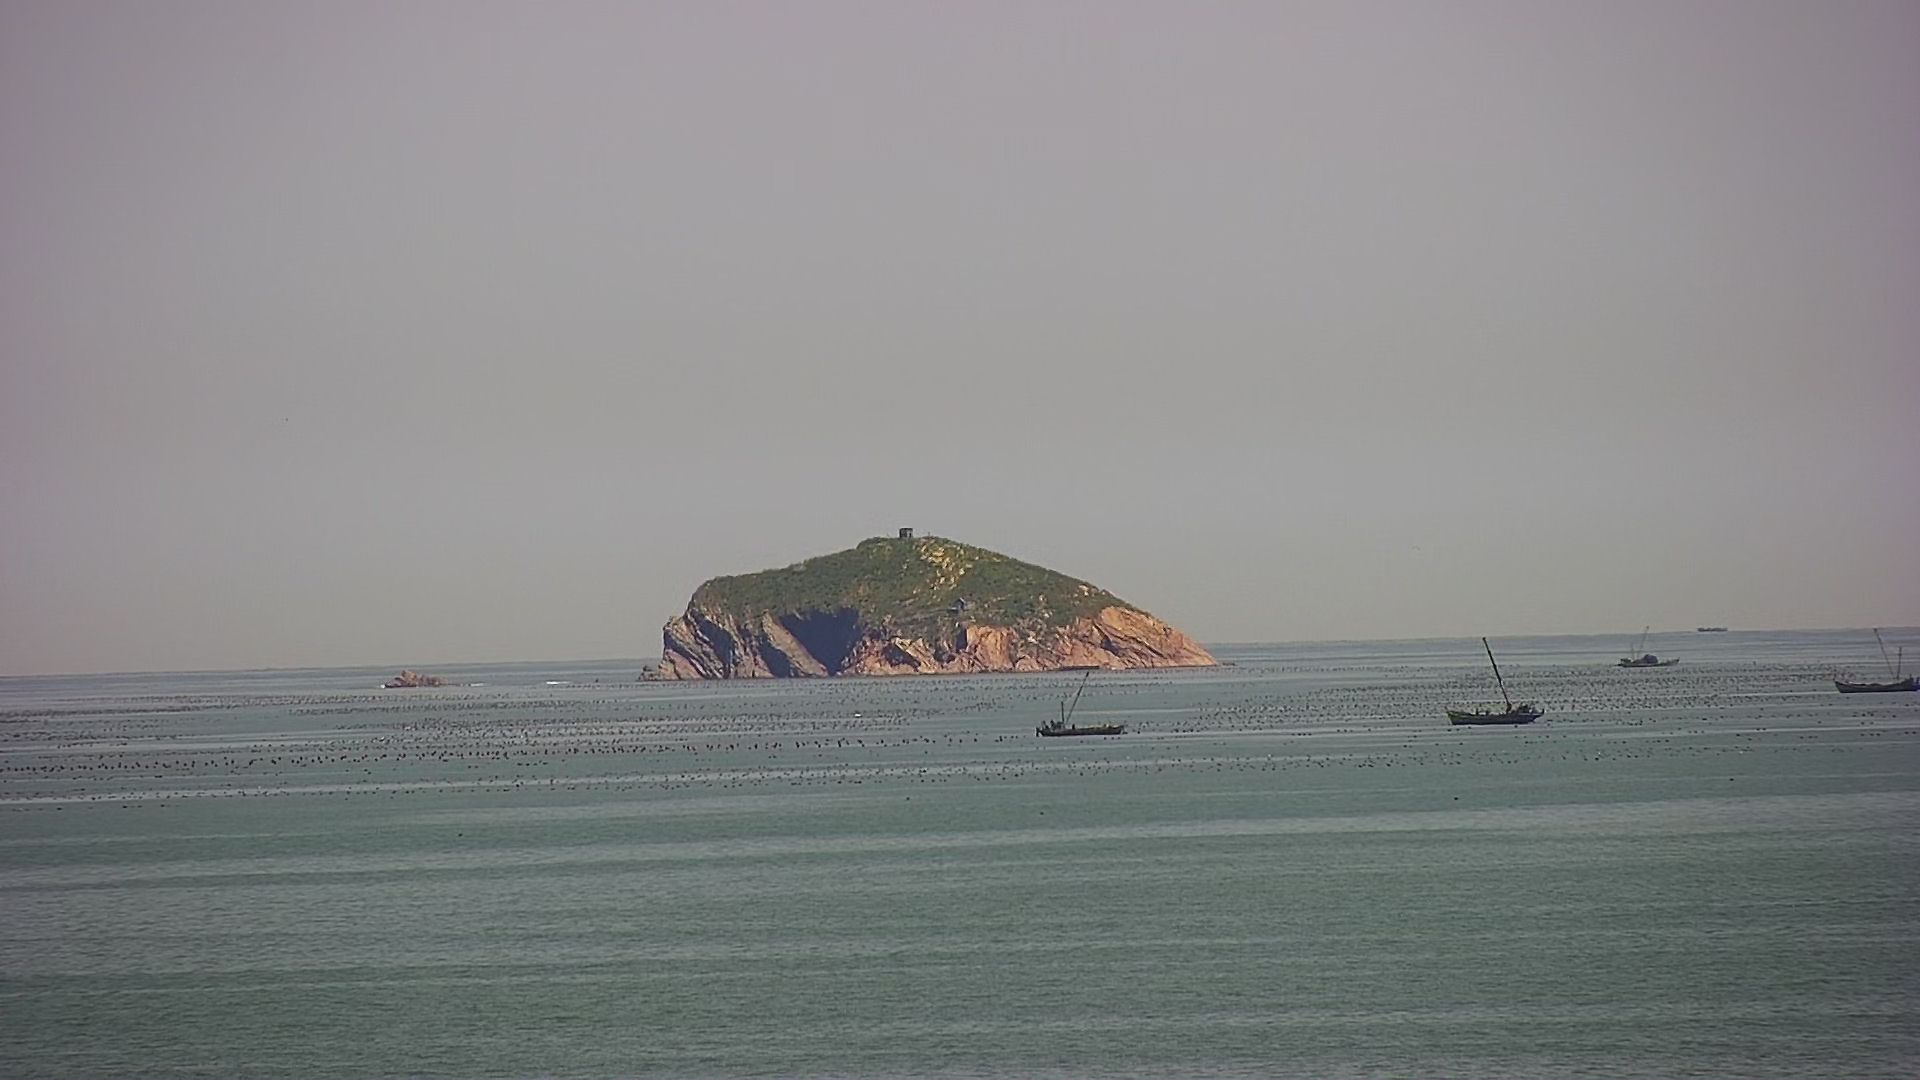boat: (1443, 637, 1548, 728), (1033, 665, 1126, 738), (1836, 622, 1920, 698), (1607, 620, 1680, 669)
rock: (637, 520, 1244, 687), (380, 669, 459, 691)
